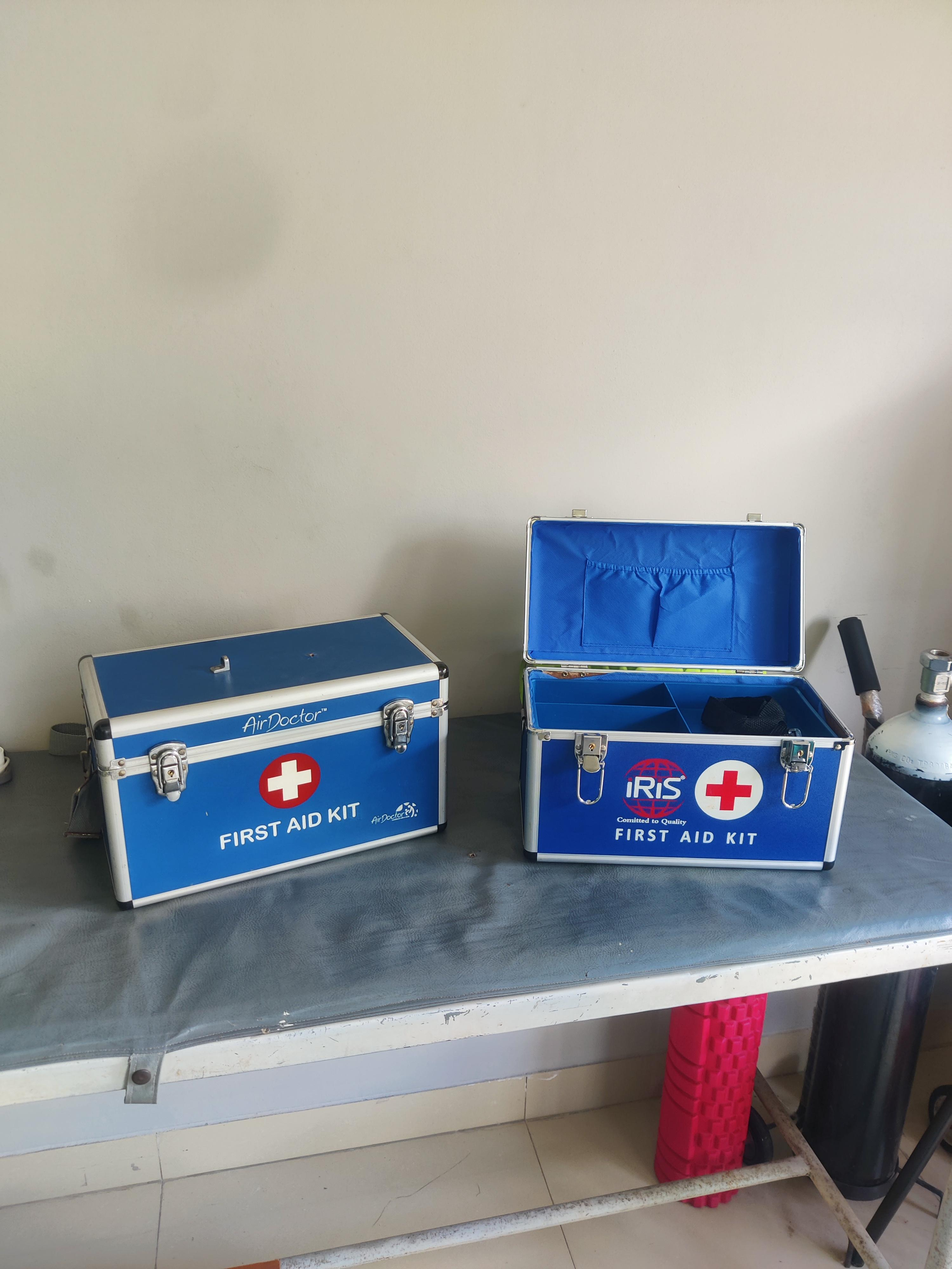FirstAidBox: (505, 493, 866, 897), (57, 602, 463, 923)
